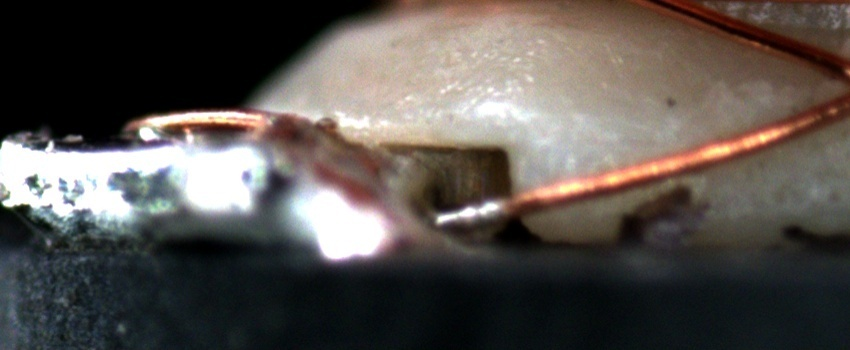DL: (534, 122, 682, 162)
TE: (121, 96, 291, 143)
TS: (432, 198, 505, 228)
